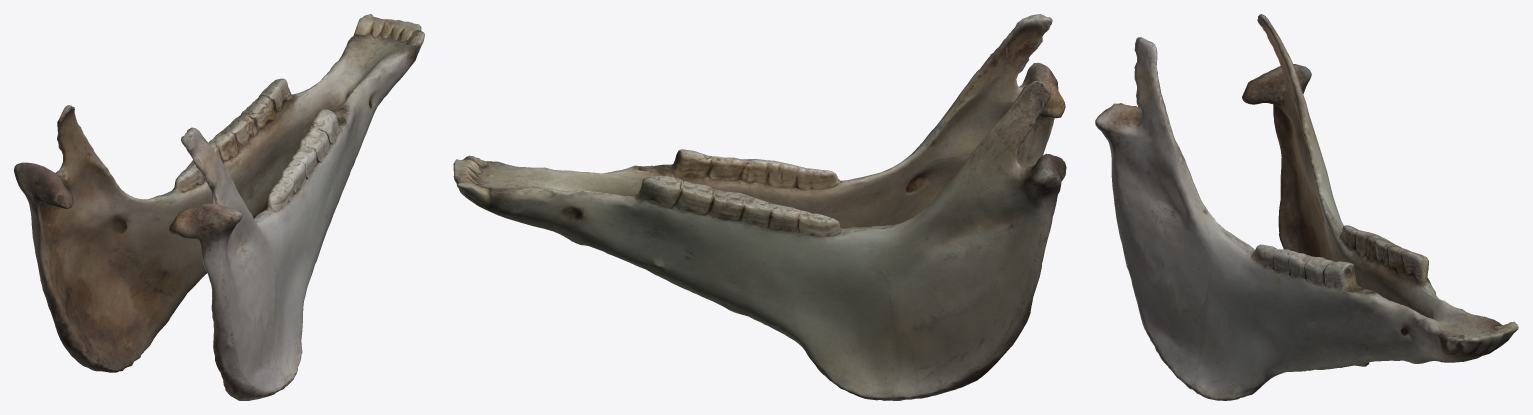
Rendered from escápula-esquerda-equina.glb.
The picture shows the model from 3 angles, left to right: view 1: azimuth 30°, elevation 25°; view 2: azimuth 150°, elevation 25°; view 3: azimuth 270°, elevation 25°; orthographic projection. The views are drawn at different scales.
Parts seen in each view (by area): view 1: 3DModel_LowPoly; view 2: 3DModel_LowPoly; view 3: 3DModel_LowPoly.
Boxes of the visible parts, box(x1,y1,x2,y2) form: 3DModel_LowPoly: box(14, 14, 424, 400); 3DModel_LowPoly: box(453, 14, 1066, 400); 3DModel_LowPoly: box(1095, 14, 1518, 400).
Bounding box in the file's own units: 5.13 × 3.08 × 3.92.
1 material, 1 textured.
